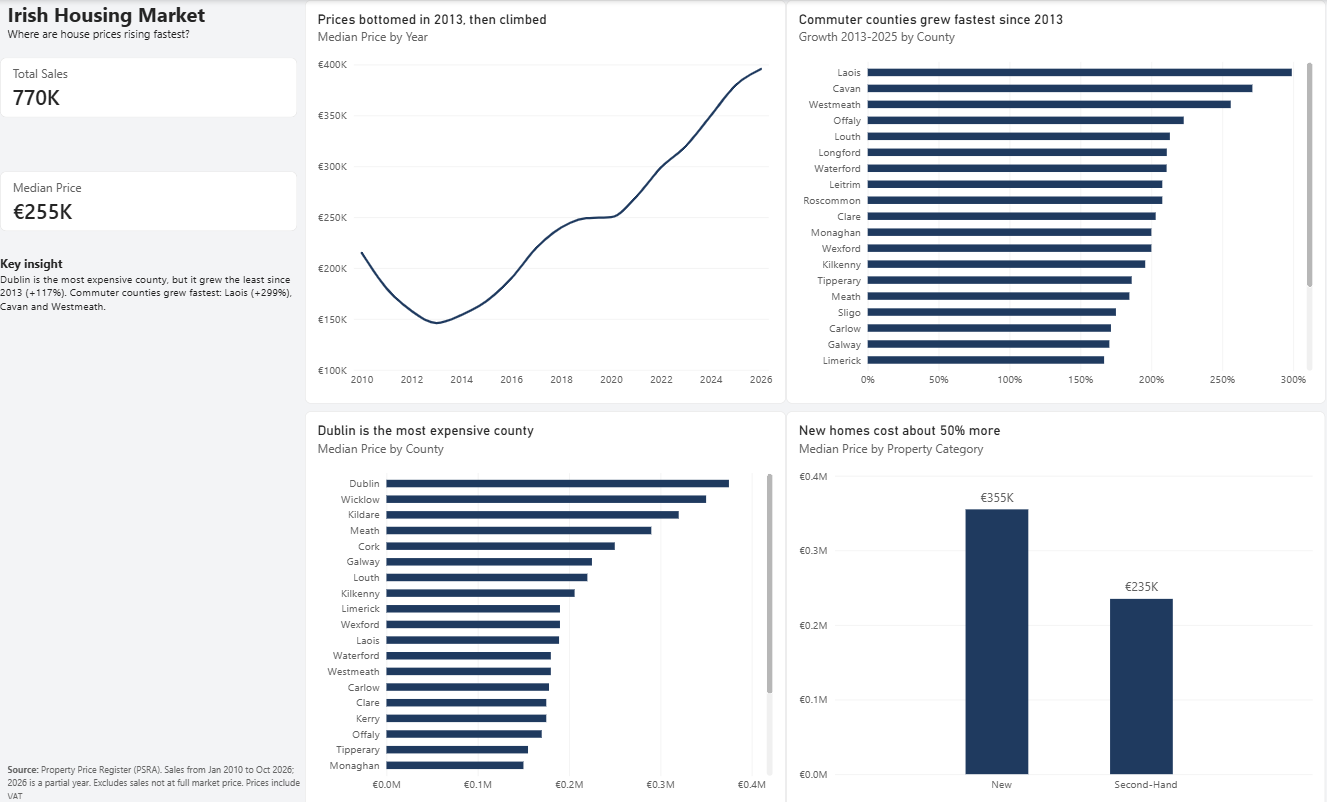

The dashboard page shown, as its layout file describes it:
{"tool":"powerbi","page":{"name":"Page 1","canvas":[1920,1080],"ordinal":0},"visuals":[{"type":"cardVisual","fields":{"Data":["Property Sales.Total Sales"]},"box":[-0.3,77.3,397.3,80],"z":0},{"type":"cardVisual","fields":{"Data":["Property Sales.Median Price"]},"box":[-0.6,229.1,397,80],"z":1000},{"type":"lineChart","title":"Prices bottomed in 2013, then climbed","fields":{"Category":["Property Sales.Sale Date.Variation.Date Hierarchy.Year","Property Sales.Sale Date.Variation.Date Hierarchy.Quarter","Property Sales.Sale Date.Variation.Date Hierarchy.Month","Property Sales.Sale Date.Variation.Date Hierarchy.Day"],"Y":["Property Sales.Median Price"]},"box":[407.5,0,642.2,539.3],"z":2000},{"type":"clusteredBarChart","title":"Dublin is the most expensive county","fields":{"Category":["Property Sales.County"],"Y":["Property Sales.Median Price"]},"box":[407.5,549.6,642,531],"z":3000},{"type":"clusteredBarChart","title":"Commuter counties grew fastest since 2013","fields":{"Category":["Property Sales.County"],"Y":["Property Sales.Growth 2013-2025"]},"box":[1049.7,0,720.4,539.3],"z":4000},{"type":"clusteredColumnChart","title":"New homes cost about 50% more","fields":{"Category":["Property Sales.Property Category"],"Y":["Property Sales.Median Price"]},"box":[1050,550,720,530],"z":5000},{"type":"textbox","box":[10,0,397,397],"z":6000},{"type":"textbox","box":[-0.6,340.8,397.3,304.6],"z":7000},{"type":"textbox","box":[10,1016.9,398.1,61.5],"z":8000}]}

Visuals, with their boxes on the page's 1920x1080 design canvas (x1, y1, x2, y2). These are canvas units, not pixel positions in the 1327x802 screenshot, which may show the page scaled, cropped or inside an application window:
cardVisual - Property Sales.Total Sales: x1=0 y1=77 x2=397 y2=157
cardVisual - Property Sales.Median Price: x1=-1 y1=229 x2=396 y2=309
"Prices bottomed in 2013, then climbed" lineChart: x1=408 y1=0 x2=1050 y2=539
"Dublin is the most expensive county" clusteredBarChart: x1=408 y1=550 x2=1050 y2=1081
"Commuter counties grew fastest since 2013" clusteredBarChart: x1=1050 y1=0 x2=1770 y2=539
"New homes cost about 50% more" clusteredColumnChart: x1=1050 y1=550 x2=1770 y2=1080
textbox: x1=10 y1=0 x2=407 y2=397
textbox: x1=-1 y1=341 x2=397 y2=645
textbox: x1=10 y1=1017 x2=408 y2=1078
